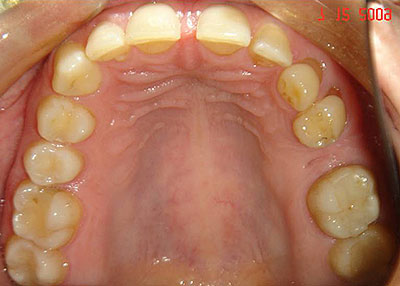UL1BC_healthy: (296, 102, 345, 146)
UL1M_healthy: (308, 170, 385, 237)
UL2M_healthy: (331, 237, 390, 280)
ULCI_healthy: (197, 6, 251, 52)
ULC_healthy: (278, 64, 321, 109)
ULLI_healthy: (254, 25, 290, 67)
UR1BC_healthy: (34, 96, 97, 146)
UR1M_healthy: (12, 184, 84, 246)
UR2BC_healthy: (24, 145, 86, 188)
UR2M_healthy: (4, 240, 67, 283)
URCI_healthy: (128, 6, 181, 53)
URC_healthy: (51, 45, 101, 92)
URLI_healthy: (86, 26, 128, 64)
